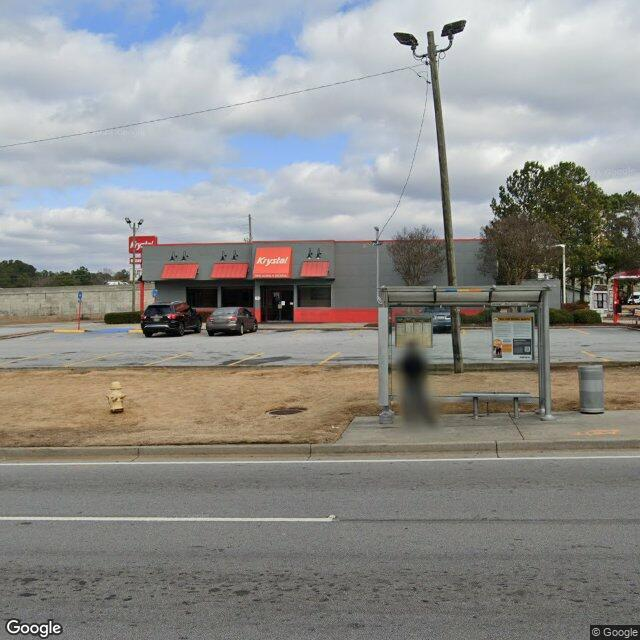seating: (458, 390, 532, 420)
shelter: (378, 286, 558, 428)
trash_can: (578, 363, 606, 412)
